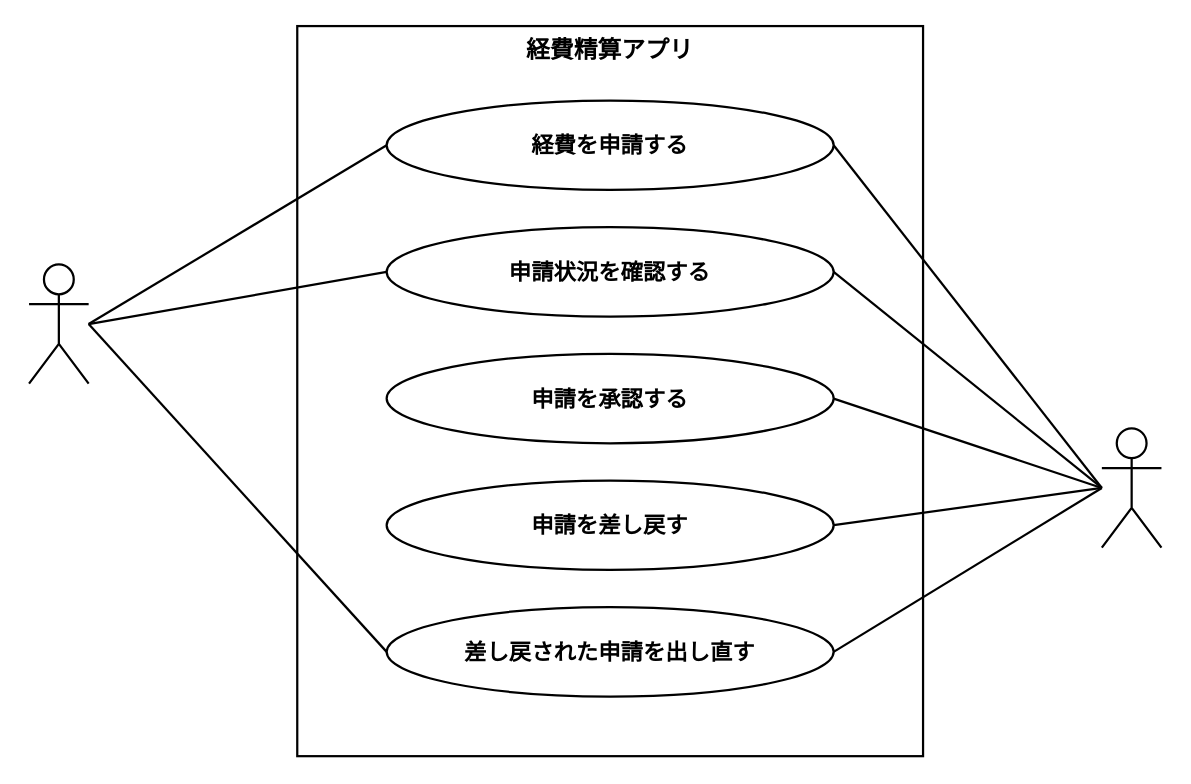
Some shapes in this 1191 by 784 pixel diagram are drawn without their labels. Each missing label, with the centre of its shape:
"承認者" belongs at point (1131, 487).
"申請者" belongs at point (58, 323).
